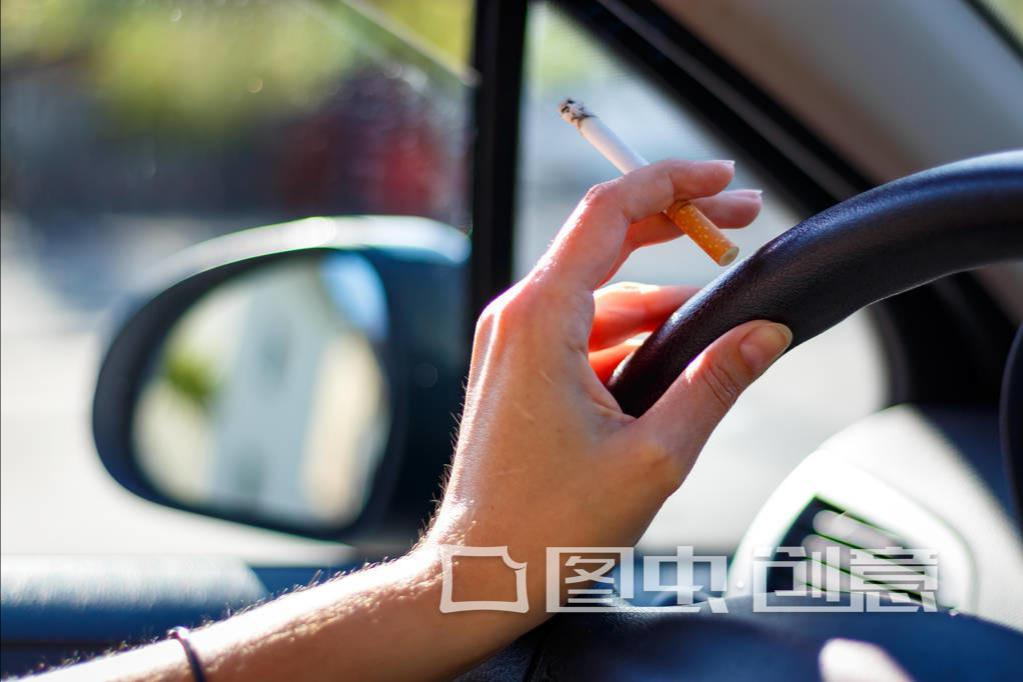Cigarette: (560, 96, 736, 266)
